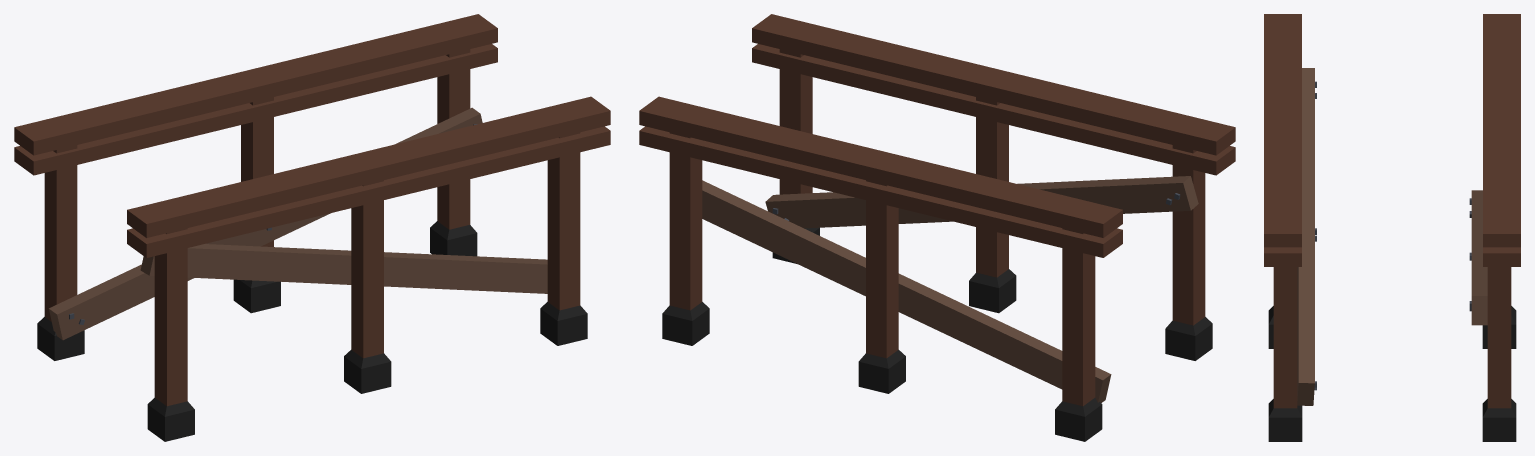
Rendered from Bridge_Podest_1 Asia.fbx.
3 renders of one model, left to right at view 1: azimuth 30°, elevation 25°; view 2: azimuth 150°, elevation 25°; view 3: azimuth 270°, elevation 25°, orthographic. The views are drawn at different scales.
Parts seen in each view (by area): view 1: Bridge_Podest_1; view 2: Bridge_Podest_1; view 3: Bridge_Podest_1.
Part boxes in pixels (x1,y1,x2,y2): Bridge_Podest_1: (14, 14, 610, 441); Bridge_Podest_1: (639, 14, 1235, 441); Bridge_Podest_1: (1264, 14, 1520, 441).
Size of the model in its own units: 4.1 by 1.89 by 2.02.
